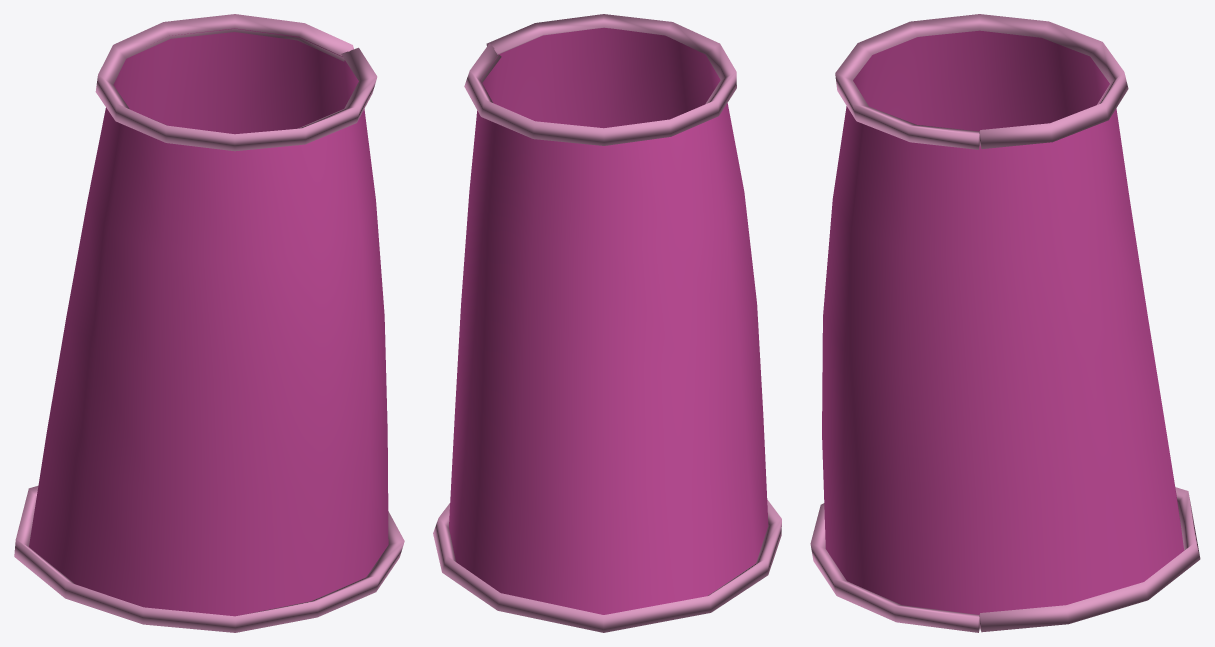
Rendered from orichalcum_armor_cuisse.R.glb.
3 renders of one model, left to right at view 1: azimuth 30°, elevation 25°; view 2: azimuth 150°, elevation 25°; view 3: azimuth 270°, elevation 25°, orthographic. The views are drawn at different scales.
Parts seen in each view (by area): view 1: orichalcum_armor_cuisse.R; view 2: orichalcum_armor_cuisse.R; view 3: orichalcum_armor_cuisse.R.
Part boxes in pixels (x1,y1,x2,y2): orichalcum_armor_cuisse.R: (14, 14, 404, 632); orichalcum_armor_cuisse.R: (433, 14, 781, 632); orichalcum_armor_cuisse.R: (810, 14, 1200, 632).
Size of the model in its own units: 0.2669 by 0.3856 by 0.2783.
